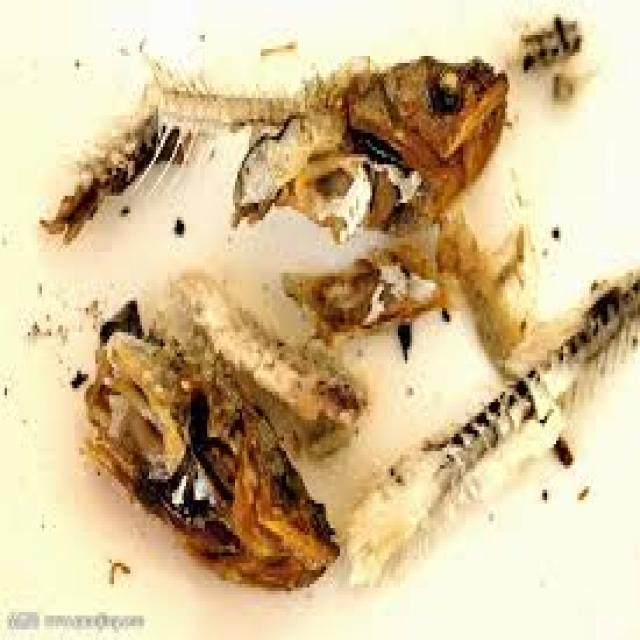organic waste: (338, 262, 638, 588), (75, 297, 335, 588), (228, 52, 510, 234), (165, 259, 363, 444), (119, 42, 288, 203), (42, 66, 195, 242), (428, 206, 535, 368), (279, 242, 442, 332), (519, 3, 596, 102)
